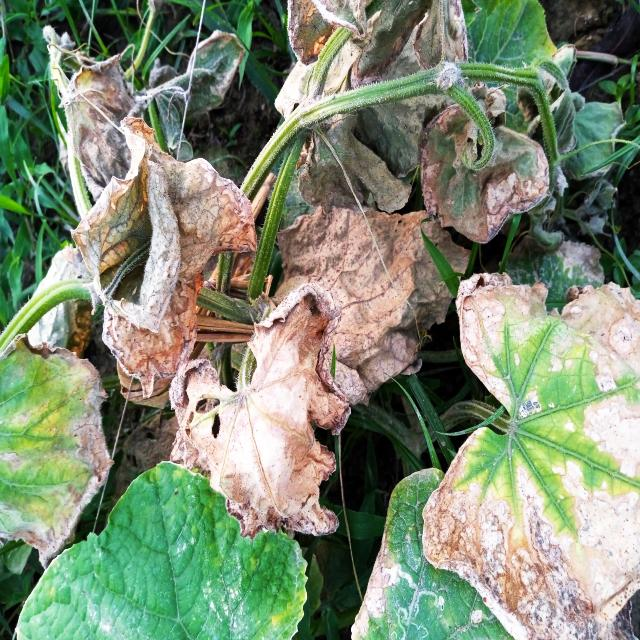Bacterial-Wilt: (29, 30, 258, 399), (166, 283, 353, 542), (272, 204, 473, 409), (419, 83, 552, 243)
